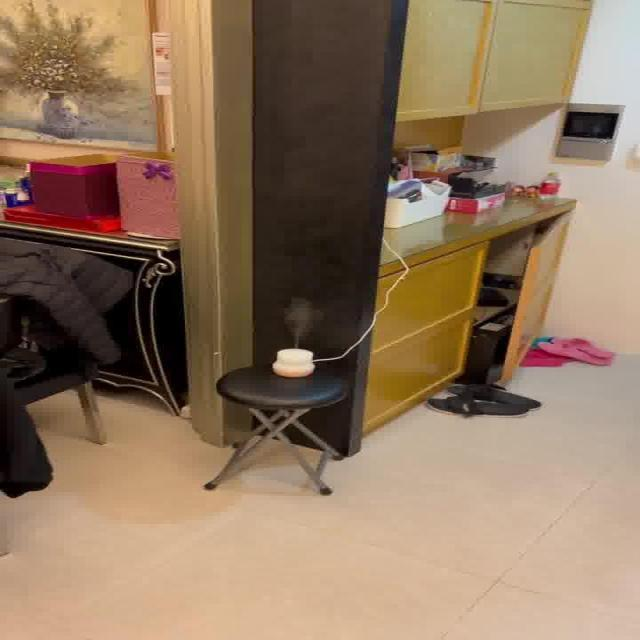fire: (270, 296, 326, 344)
